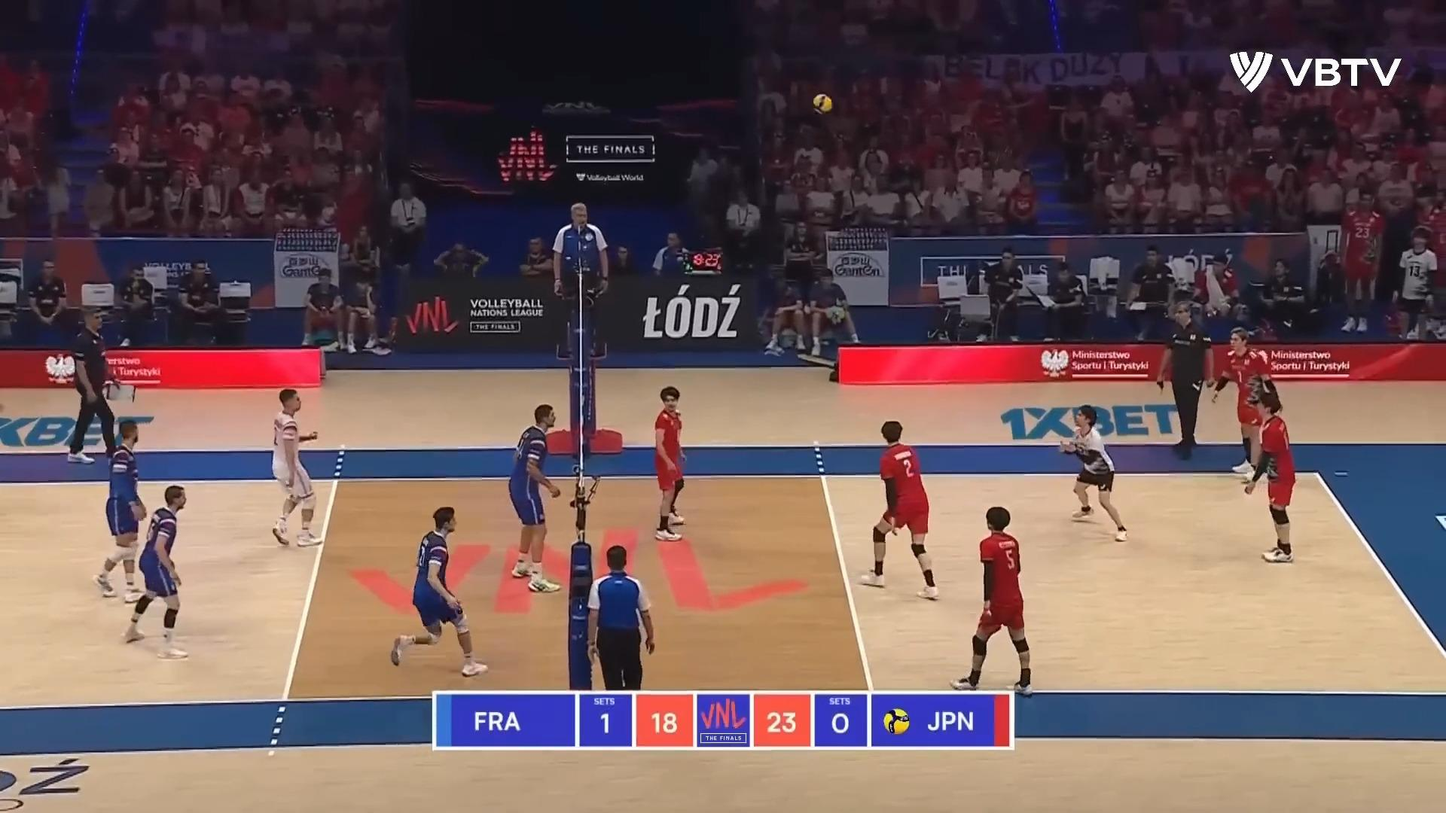ball: (812, 95, 834, 114)
